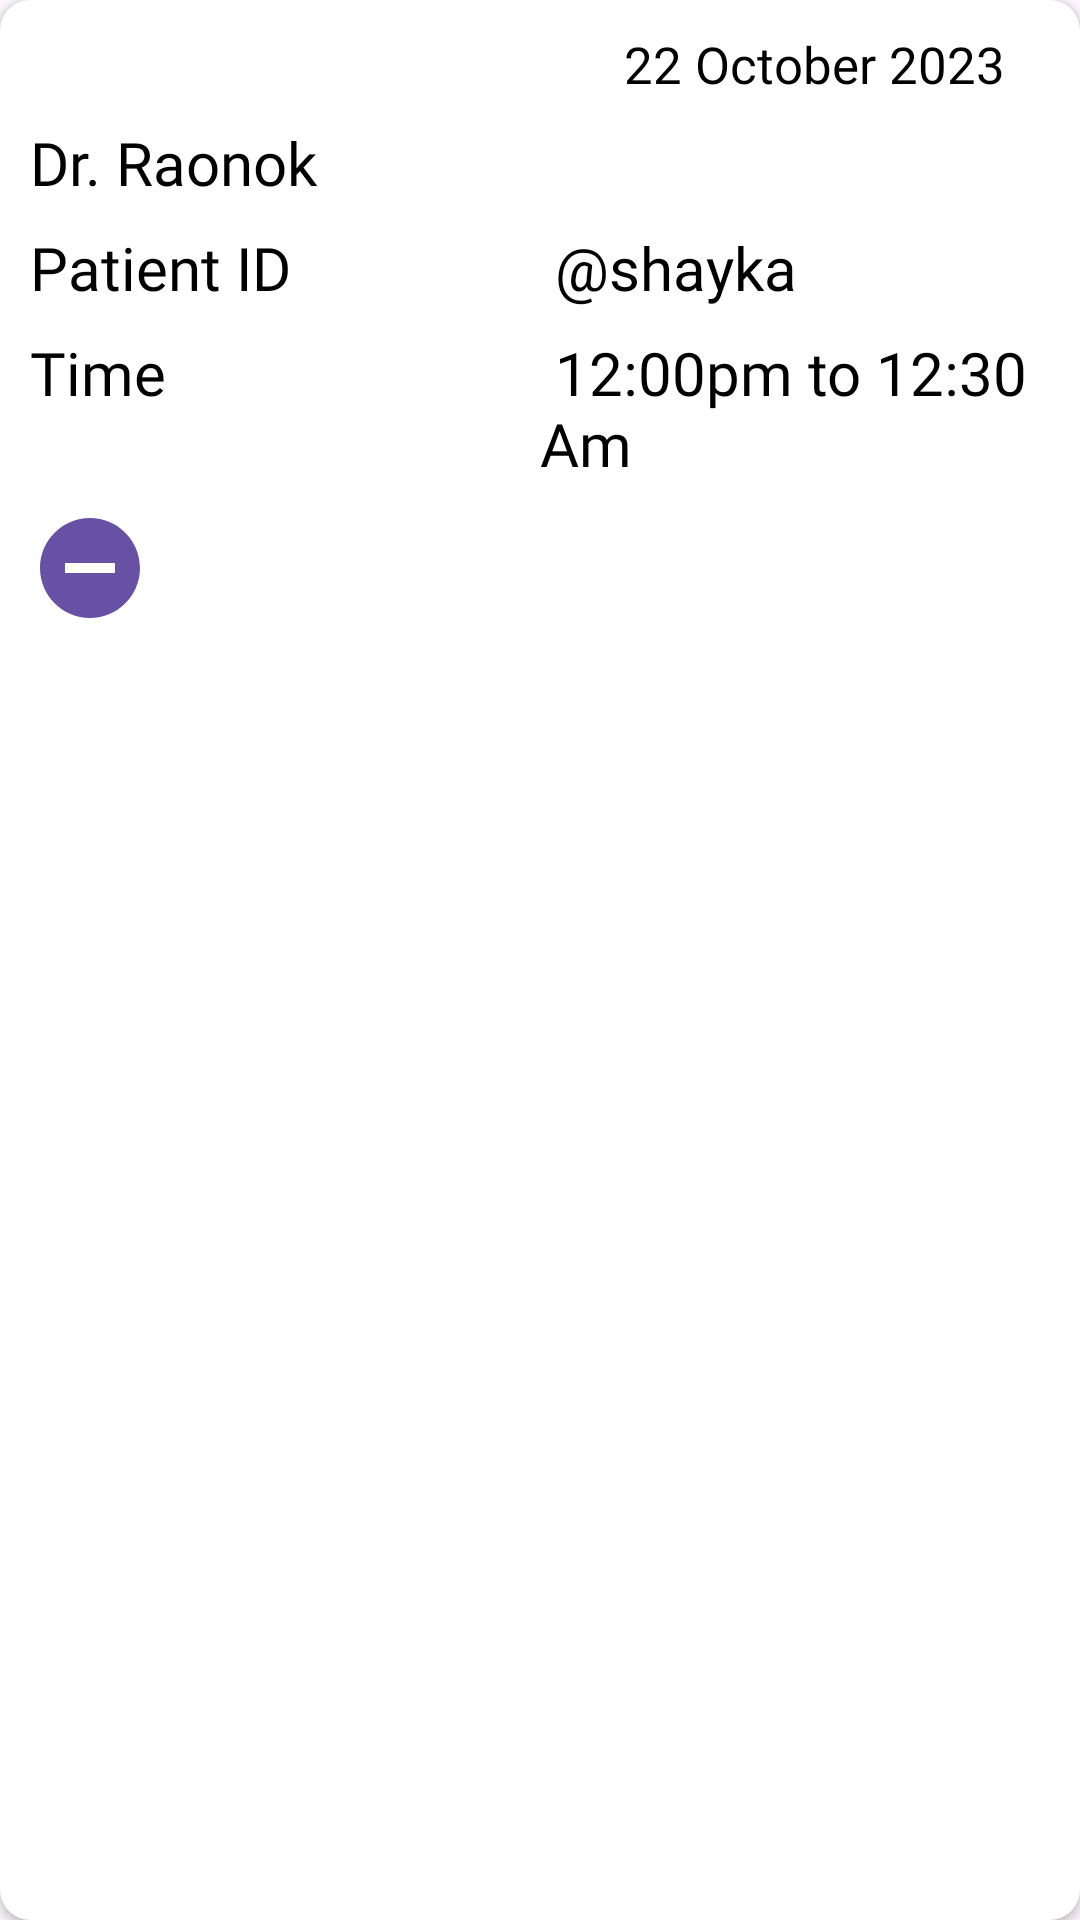

Where to tap for icons on this 1080px×1920px app screen, as (x=x, y=y):
remove circle: (x=90, y=568)
